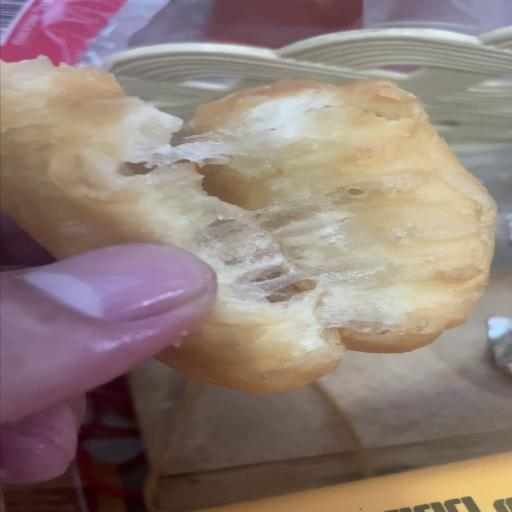street_golden_defect: (0, 77, 494, 374)
